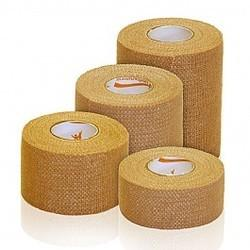bandage: (118, 16, 220, 156), (76, 64, 185, 167), (21, 112, 130, 214), (118, 147, 225, 230)
